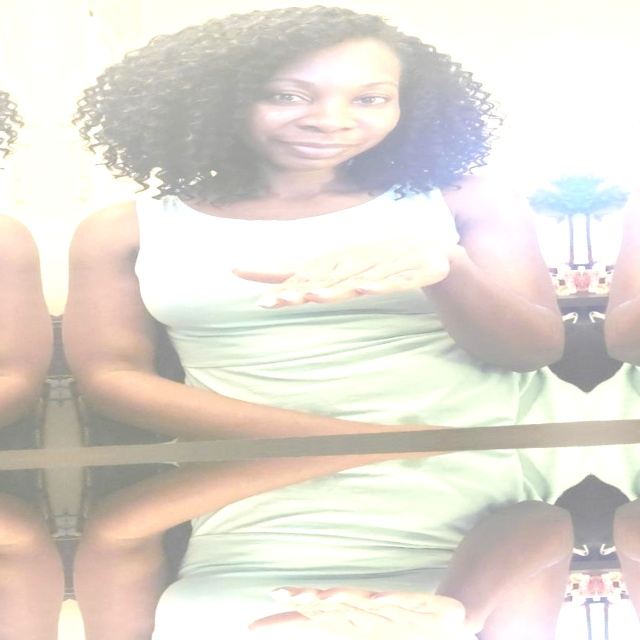Paper: (225, 232, 467, 317)
